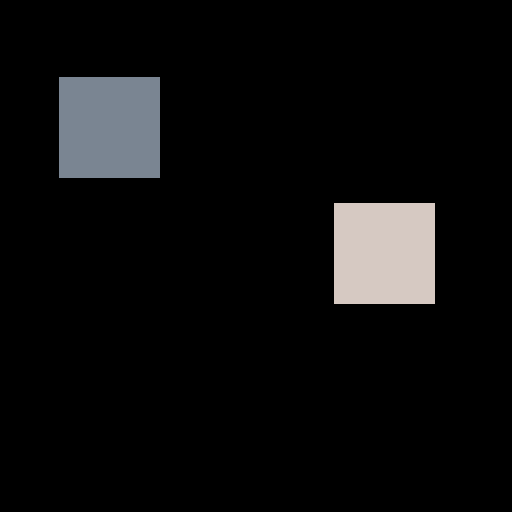square: (334, 203, 434, 303), (59, 77, 159, 177)
